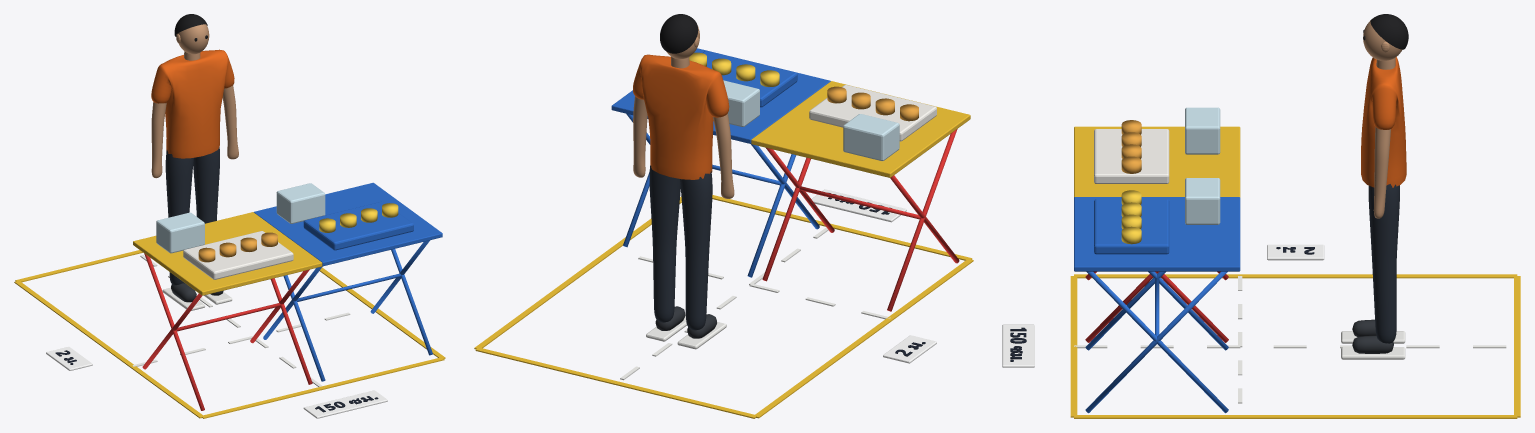
Rendered from lot-food-2.glb.
3 renders of one model, left to right at view 1: azimuth 30°, elevation 25°; view 2: azimuth 150°, elevation 25°; view 3: azimuth 270°, elevation 25°, orthographic. The views are drawn at different scales.
Visible parts, largest first — view 1: sk.002, Cube, Cube.003, Cube.004, Cube.001, sk.001, Cube.005, sk, Cube.002, Cube.007, Cube.006, Cube.024 (+16 smaller); view 2: sk.002, Cube, sk, sk.001, Cube.003, Cube.001, Cube.002, Cube.007, Cube.004, Cube.009, Cube.005, Cube.008 (+13 smaller); view 3: Cube.003, Cube, sk.002, sk.001, Cube.004, Cube.001, Cube.007, Cube.008, Cube.002, Cube.005, Cube.024, sk.006 (+13 smaller).
Part boxes in pixels (x1,y1,x2,y2): sk.002: [151, 49, 234, 158]; Cube: [133, 212, 322, 295]; Cube.003: [253, 182, 442, 266]; Cube.004: [303, 201, 413, 250]; Cube.001: [183, 231, 293, 279]; sk.001: [193, 147, 219, 223]; Cube.005: [276, 183, 325, 223]; sk: [165, 150, 193, 285]; Cube.002: [156, 212, 204, 253]; Cube.007: [14, 281, 202, 418]; Cube.006: [201, 357, 444, 418]; Cube.024: [303, 390, 387, 418]; sk.002: [633, 54, 729, 179]; Cube: [751, 81, 970, 177]; sk: [679, 171, 712, 330]; sk.001: [649, 165, 680, 322]; Cube.003: [611, 48, 830, 143]; Cube.001: [809, 85, 936, 141]; Cube.002: [843, 114, 899, 161]; Cube.007: [754, 259, 973, 418]; Cube.004: [702, 50, 797, 107]; Cube.009: [475, 348, 757, 418]; Cube.005: [723, 80, 759, 126]; Cube.008: [474, 197, 681, 349]; Cube.003: [1074, 197, 1240, 271]; Cube: [1074, 126, 1240, 197]; sk.002: [1361, 57, 1406, 187]; sk.001: [1368, 184, 1399, 343]; Cube.004: [1094, 199, 1169, 254]; Cube.001: [1094, 129, 1169, 183]; Cube.007: [1074, 274, 1517, 278]; Cube.008: [1074, 415, 1517, 418]; Cube.002: [1185, 107, 1220, 154]; Cube.005: [1185, 178, 1220, 224]; Cube.024: [1002, 324, 1034, 367]; sk.006: [1373, 127, 1390, 218].
Bounding box in the file's own units: 1.84 × 1.65 × 2.34.
